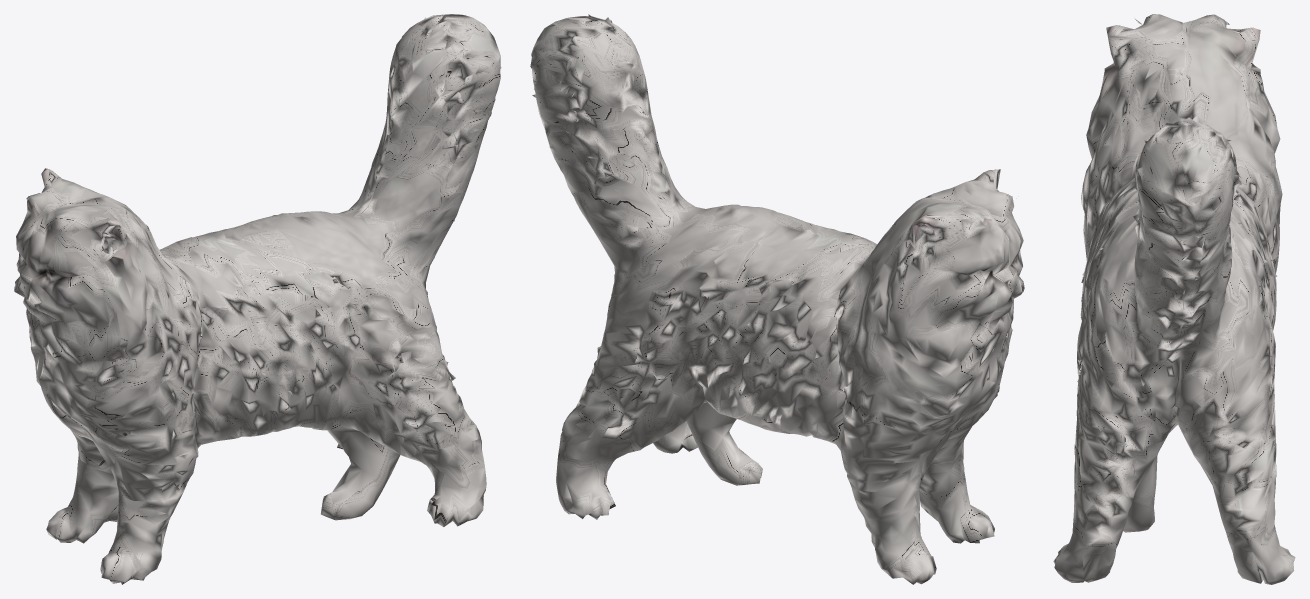
Rendered from BLOFELDCAT-lo.glb.
The picture shows the model from 3 angles, left to right: view 1: azimuth 30°, elevation 25°; view 2: azimuth 150°, elevation 25°; view 3: azimuth 270°, elevation 25°; orthographic projection. The views are drawn at different scales.
Visible parts, largest first — view 1: tripo_node_91df6295-6c2c-467b-99b2-24e003c50246; view 2: tripo_node_91df6295-6c2c-467b-99b2-24e003c50246; view 3: tripo_node_91df6295-6c2c-467b-99b2-24e003c50246.
Boxes of the visible parts, left/top/right/bottom form: tripo_node_91df6295-6c2c-467b-99b2-24e003c50246: left=14, top=14, right=501, bottom=584; tripo_node_91df6295-6c2c-467b-99b2-24e003c50246: left=530, top=14, right=1024, bottom=584; tripo_node_91df6295-6c2c-467b-99b2-24e003c50246: left=1053, top=14, right=1295, bottom=584.
Size of the model in its own units: 1.09 by 0.995 by 0.4615.
1 material, 1 textured.
